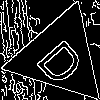D: (34, 31, 94, 89)
